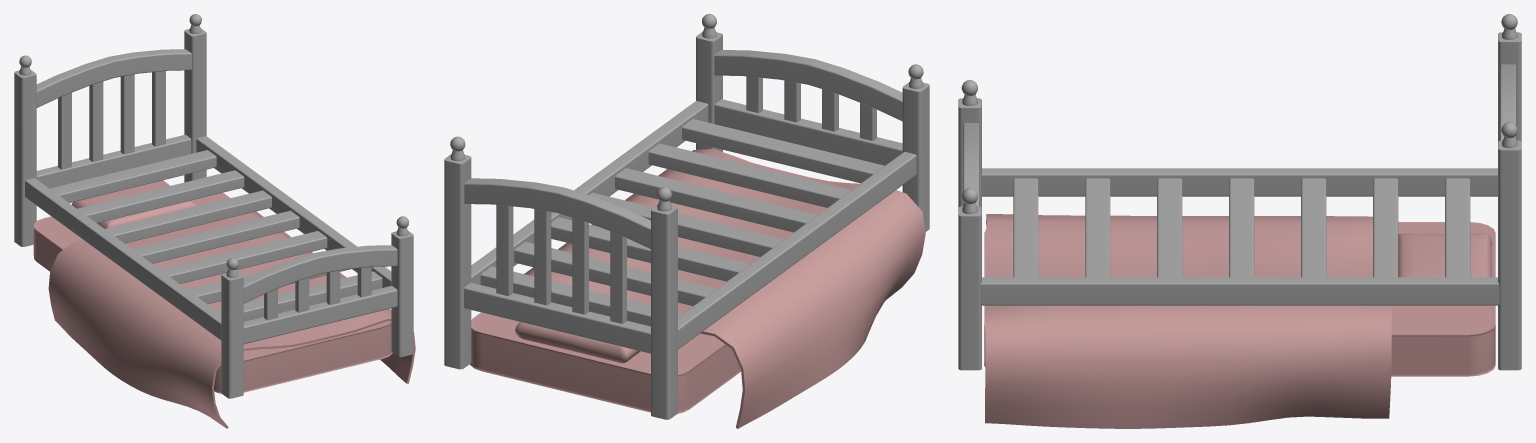
The model's file is Bed.fbx.
3 renders of one model, left to right at view 1: azimuth 30°, elevation 25°; view 2: azimuth 150°, elevation 25°; view 3: azimuth 270°, elevation 25°, orthographic. The views are drawn at different scales.
Parts seen in each view (by area): view 1: bed_sheet, slats, post_pCube1, mattres, pCube2, slats2, pCube7, pCube6, pCube5, pCube3, pCube4, slats1 (+1 smaller); view 2: bed_sheet, slats, post_pCube1, mattres, pCube2, slats2, pCube6, pCube7, pCube4, pCube5, pCube3, slats1 (+1 smaller); view 3: bed_sheet, slats, pCube3, post_pCube1, pCube2, mattres, pCube8, pCube6, pCube7.
Boxes of the visible parts, left/top/right/bottom form: bed_sheet: left=48, top=211, right=415, bottom=428; slats: left=49, top=150, right=382, bottom=321; post_pCube1: left=14, top=14, right=413, bottom=398; mattres: left=33, top=192, right=392, bottom=393; pCube2: left=25, top=178, right=221, bottom=340; slats2: left=58, top=71, right=165, bottom=169; pCube7: left=36, top=49, right=191, bottom=107; pCube6: left=243, top=245, right=397, bottom=303; pCube5: left=243, top=285, right=397, bottom=344; pCube3: left=196, top=136, right=391, bottom=287; pCube4: left=36, top=134, right=191, bottom=188; slats1: left=264, top=267, right=371, bottom=320; bed_sheet: left=524, top=149, right=925, bottom=428; slats: left=480, top=119, right=884, bottom=326; post_pCube1: left=444, top=14, right=929, bottom=419; mattres: left=470, top=312, right=740, bottom=413; pCube2: left=678, top=151, right=916, bottom=349; slats2: left=496, top=205, right=626, bottom=323; pCube6: left=714, top=50, right=902, bottom=121; pCube7: left=464, top=178, right=650, bottom=249; pCube4: left=464, top=282, right=650, bottom=353; pCube5: left=714, top=99, right=902, bottom=165; pCube3: left=471, top=100, right=708, bottom=284; slats1: left=746, top=76, right=876, bottom=140; bed_sheet: left=985, top=214, right=1391, bottom=428; slats: left=1013, top=178, right=1470, bottom=277; pCube3: left=980, top=277, right=1499, bottom=305; post_pCube1: left=958, top=14, right=1521, bottom=370; pCube2: left=981, top=168, right=1497, bottom=196; mattres: left=984, top=222, right=1495, bottom=376; pCube8: left=1398, top=233, right=1491, bottom=277; pCube6: left=963, top=123, right=979, bottom=206; pCube7: left=1500, top=64, right=1516, bottom=140.
Bounding box in the file's own units: 3.05 × 3.05 × 5.24.
